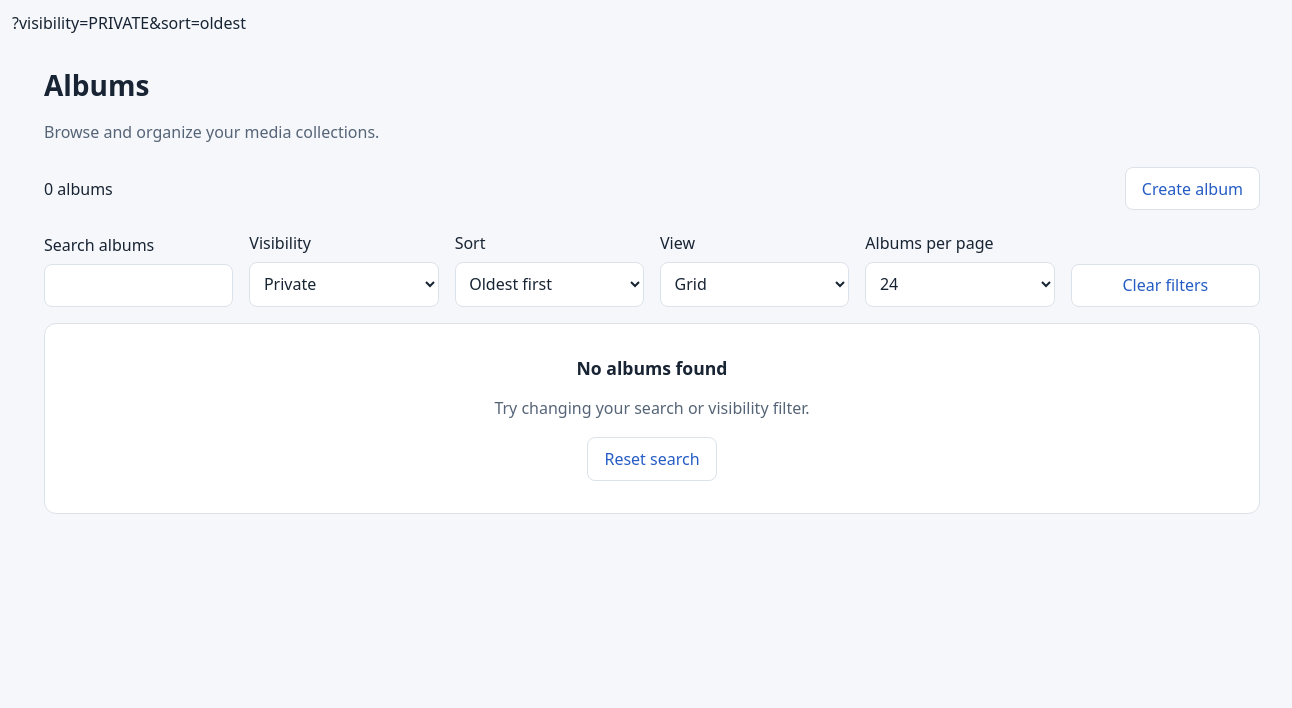
Scenario: creates an album, resets list filters, and exposes the refreshed album
The width and height of the screenshot is (1292, 708).
expect the heading "No albums found" is shown: met, box [576,356,728,380]
Click the button "Create album".
click(1192, 189)  # box [1125,167,1260,210]
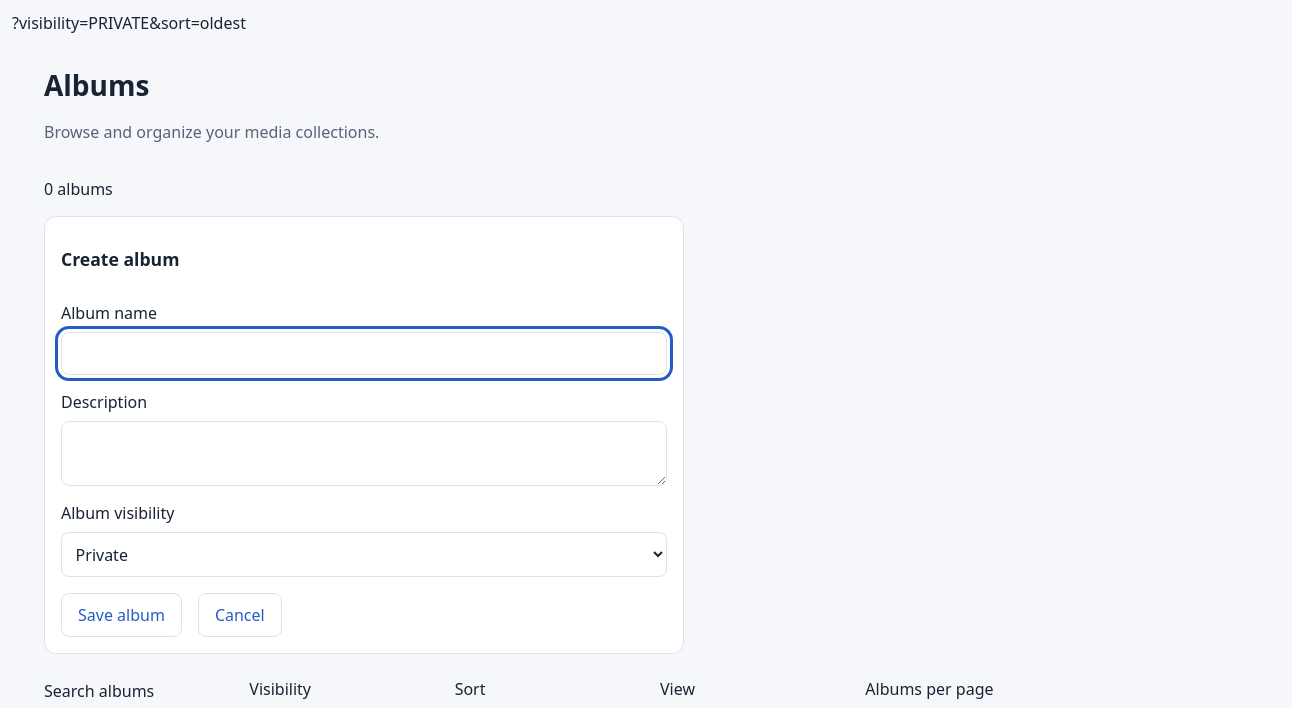
Type " New album " into the field labelled "Album name".
click(364, 353); type(" New album ")  # box [61,332,667,375]
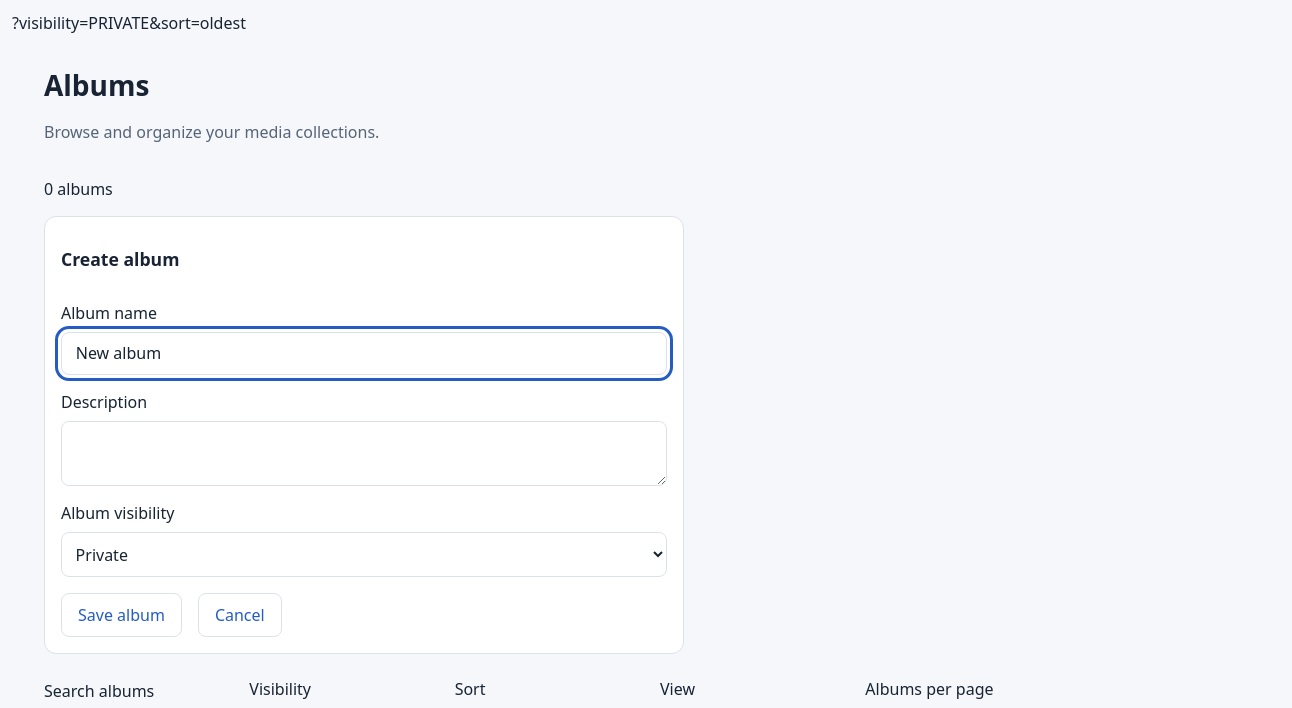
Type "Memories" into the text box labelled "Description".
click(364, 454); type("Memories")  # box [61,421,667,486]
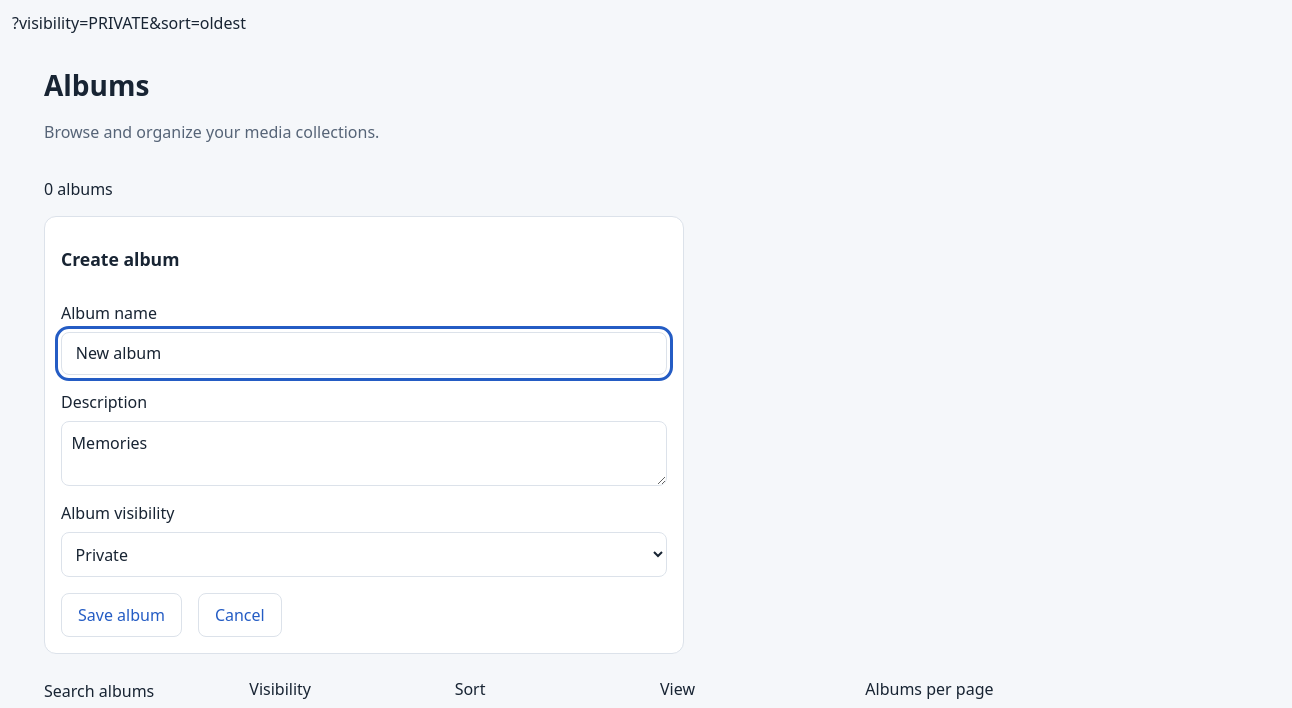
Select "Public" in the dropdown labelled "Album visibility" at (364, 555), box [61,532,667,577]
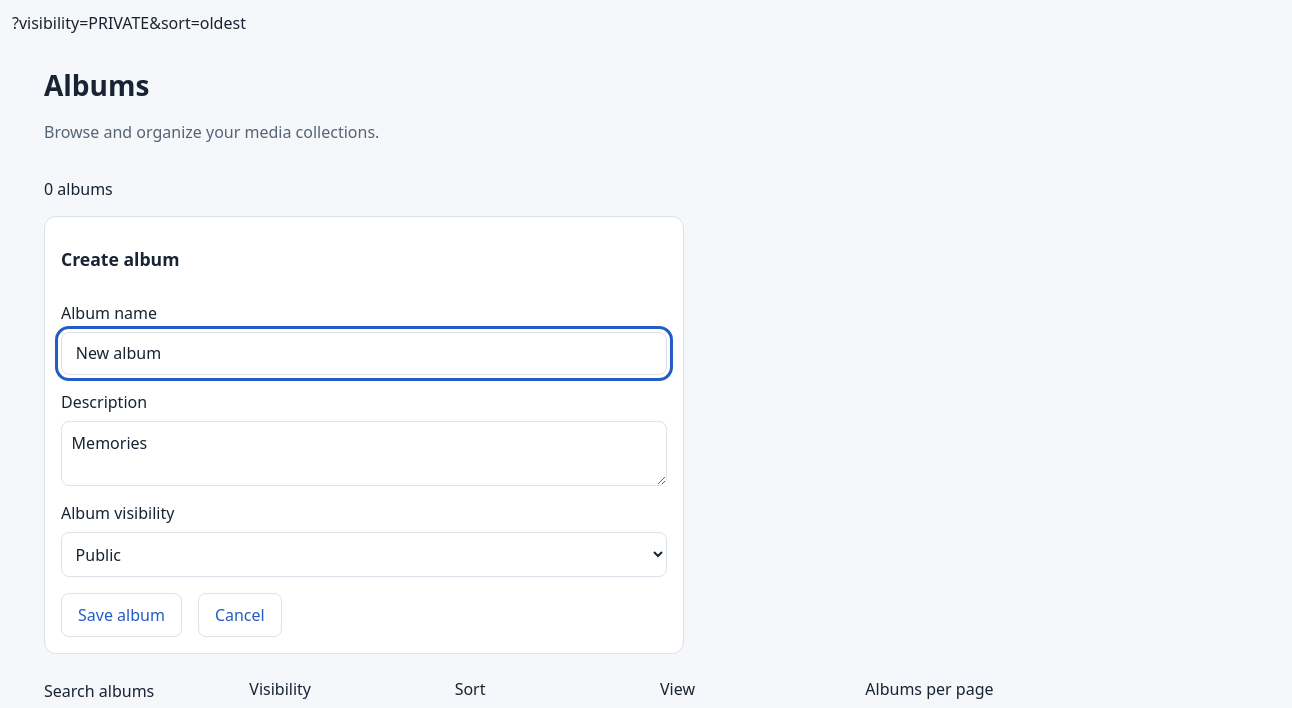
Click the button "Save album".
click(121, 615)  # box [61,593,182,636]
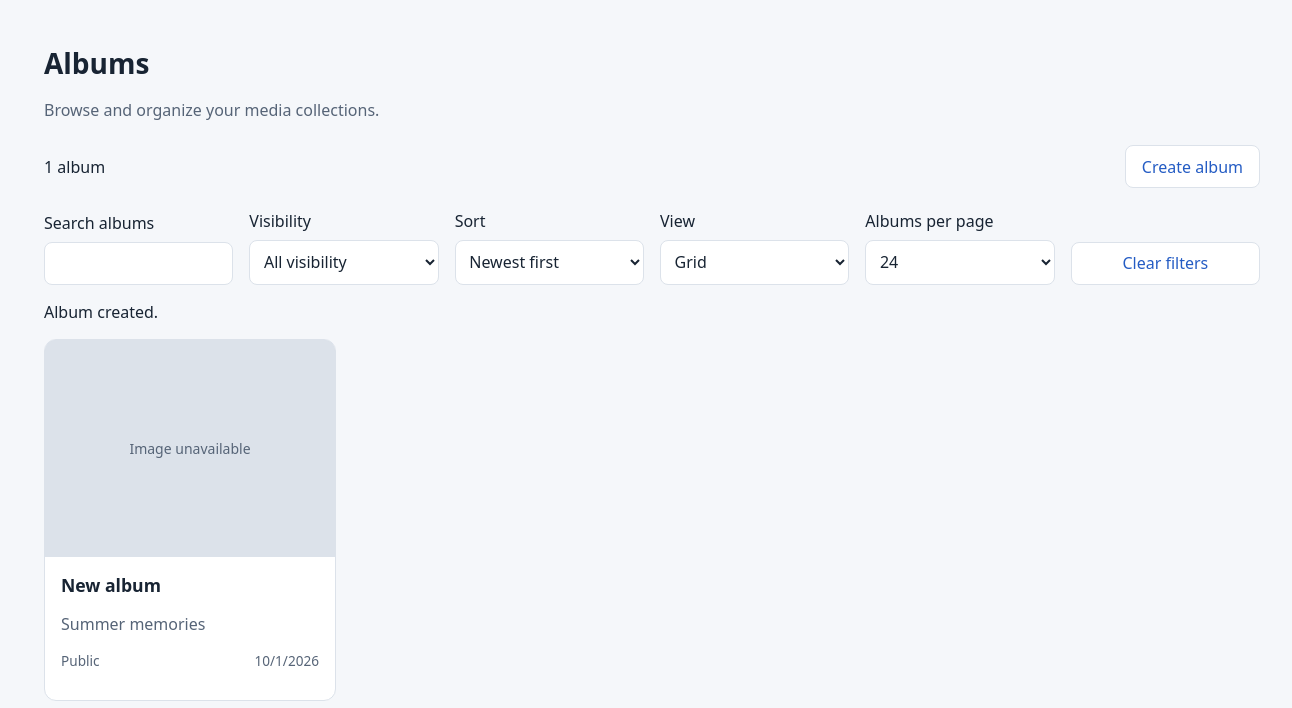
expect the link "Image unavailable New album Summer memories Public 10/1/2026" is shown: met, box [45,340,335,700]
expect the label labelled "Album name" is gone: met
expect the dropdown labelled "Visibility" shows "All visibility": met, box [249,240,439,285]
